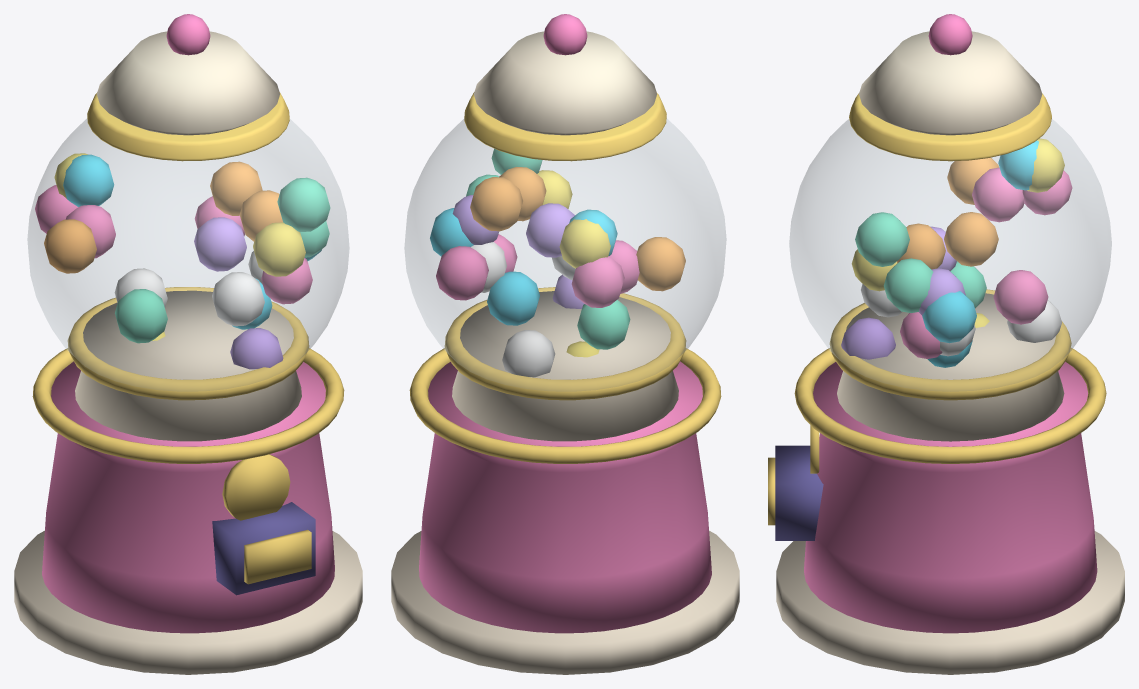
Rendered from bg_gumball.glb.
The picture shows the model from 3 angles, left to right: view 1: azimuth 30°, elevation 25°; view 2: azimuth 150°, elevation 25°; view 3: azimuth 270°, elevation 25°; orthographic projection.
Parts seen in each view (by area): view 1: M_Gumball__g_glass, M_Gumball__g_cream, M_Gumball__g_pink, M_Gumball__g_gold, M_Gumball__ggb5, M_Gumball__ggb4, M_Gumball__g_navy, M_Gumball__ggb0, M_Gumball__ggb3, M_Gumball__ggb6, M_Gumball__ggb2, M_Gumball__ggb1; view 2: M_Gumball__g_glass, M_Gumball__g_pink, M_Gumball__g_cream, M_Gumball__g_gold, M_Gumball__ggb5, M_Gumball__ggb0, M_Gumball__ggb1, M_Gumball__ggb3, M_Gumball__ggb6, M_Gumball__ggb2, M_Gumball__ggb4; view 3: M_Gumball__g_glass, M_Gumball__g_pink, M_Gumball__g_cream, M_Gumball__g_gold, M_Gumball__ggb0, M_Gumball__ggb4, M_Gumball__ggb5, M_Gumball__g_navy, M_Gumball__ggb1, M_Gumball__ggb3, M_Gumball__ggb6, M_Gumball__ggb2.
Part boxes in pixels (x1,y1,x2,y2): M_Gumball__g_glass: [27, 119, 349, 390]; M_Gumball__g_cream: [14, 31, 362, 674]; M_Gumball__g_pink: [42, 14, 334, 633]; M_Gumball__g_gold: [32, 92, 344, 584]; M_Gumball__ggb5: [44, 161, 282, 273]; M_Gumball__ggb4: [115, 177, 330, 343]; M_Gumball__g_navy: [212, 502, 315, 595]; M_Gumball__ggb0: [35, 185, 312, 304]; M_Gumball__ggb3: [194, 217, 283, 369]; M_Gumball__ggb6: [114, 251, 264, 326]; M_Gumball__ggb2: [54, 153, 305, 340]; M_Gumball__ggb1: [63, 154, 321, 329]; M_Gumball__g_glass: [404, 119, 726, 390]; M_Gumball__g_pink: [419, 14, 711, 633]; M_Gumball__g_cream: [391, 31, 739, 674]; M_Gumball__g_gold: [409, 92, 721, 463]; M_Gumball__ggb5: [470, 167, 685, 291]; M_Gumball__ggb0: [436, 234, 639, 307]; M_Gumball__ggb1: [430, 208, 617, 325]; M_Gumball__ggb3: [452, 195, 584, 308]; M_Gumball__ggb6: [471, 242, 575, 377]; M_Gumball__ggb2: [537, 170, 610, 357]; M_Gumball__ggb4: [466, 148, 630, 349]; M_Gumball__g_glass: [789, 119, 1111, 391]; M_Gumball__g_pink: [804, 14, 1097, 633]; M_Gumball__g_cream: [776, 31, 1124, 674]; M_Gumball__g_gold: [768, 93, 1106, 525]; M_Gumball__ggb0: [900, 167, 1072, 358]; M_Gumball__ggb4: [855, 212, 986, 312]; M_Gumball__ggb5: [897, 157, 998, 269]; M_Gumball__g_navy: [775, 445, 823, 540]; M_Gumball__ggb1: [922, 140, 1038, 367]; M_Gumball__ggb3: [841, 226, 965, 359]; M_Gumball__ggb6: [861, 284, 1061, 356]; M_Gumball__ggb2: [851, 138, 1064, 327].
Size of the model in its own units: 1.9 by 3.52 by 1.95.
